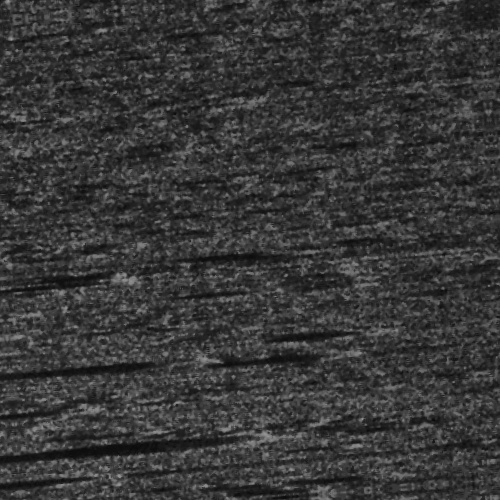object: (332, 474, 415, 487), (202, 428, 285, 439), (153, 348, 226, 357), (44, 456, 107, 465), (331, 334, 394, 343), (288, 491, 341, 500), (93, 255, 134, 266), (87, 263, 150, 270), (250, 248, 313, 255), (320, 355, 373, 362), (60, 390, 113, 397), (233, 285, 286, 290), (0, 311, 21, 318)
shadow: (17, 428, 243, 439), (22, 348, 190, 357), (0, 255, 113, 266), (0, 263, 118, 270), (313, 474, 373, 487), (279, 334, 363, 343), (242, 355, 346, 362), (0, 456, 75, 465), (197, 248, 282, 255), (250, 491, 314, 500), (10, 390, 86, 397), (193, 285, 259, 290)
